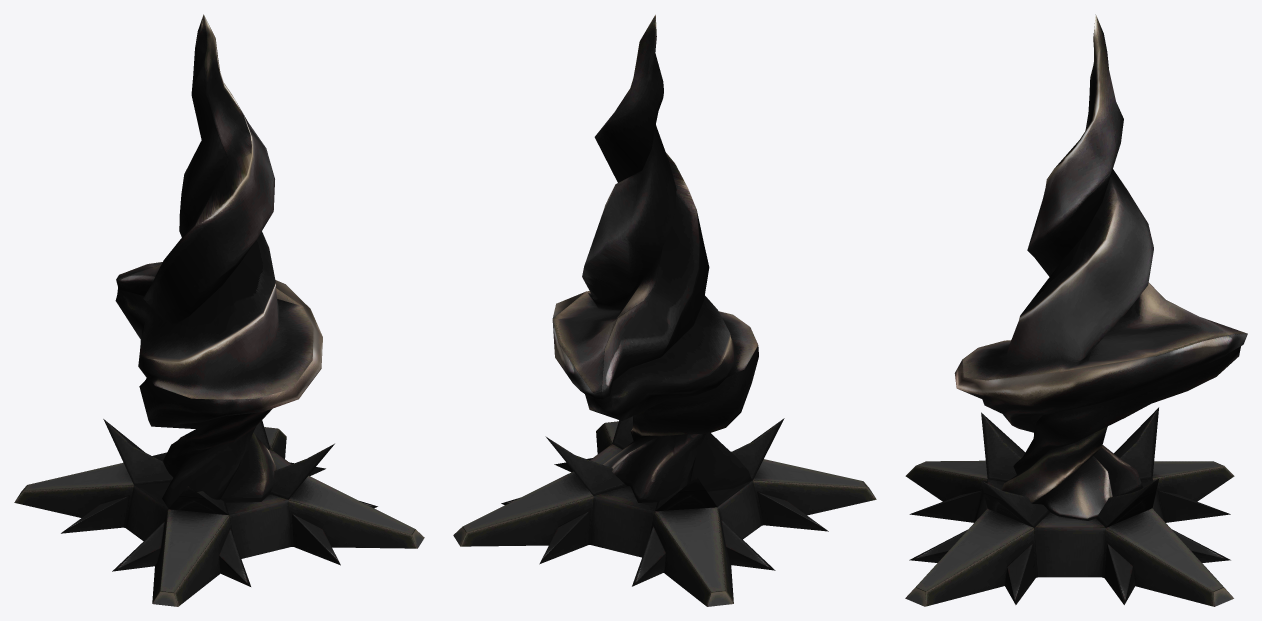
File: trap_159_lrcore.fbx
The picture shows the model from 3 angles, left to right: view 1: azimuth 30°, elevation 25°; view 2: azimuth 150°, elevation 25°; view 3: azimuth 270°, elevation 25°; orthographic projection. The views are drawn at different scales.
Visible parts, largest first — view 1: trap_159_lrcore; view 2: trap_159_lrcore; view 3: trap_159_lrcore.
Boxes of the visible parts, <box> form: trap_159_lrcore: <box>14,14,424,606</box>; trap_159_lrcore: <box>453,14,876,606</box>; trap_159_lrcore: <box>905,14,1247,606</box>.
Size of the model in its own units: 0.7561 by 1.32 by 0.7866.
Materials: 1 (1 with a texture image).
